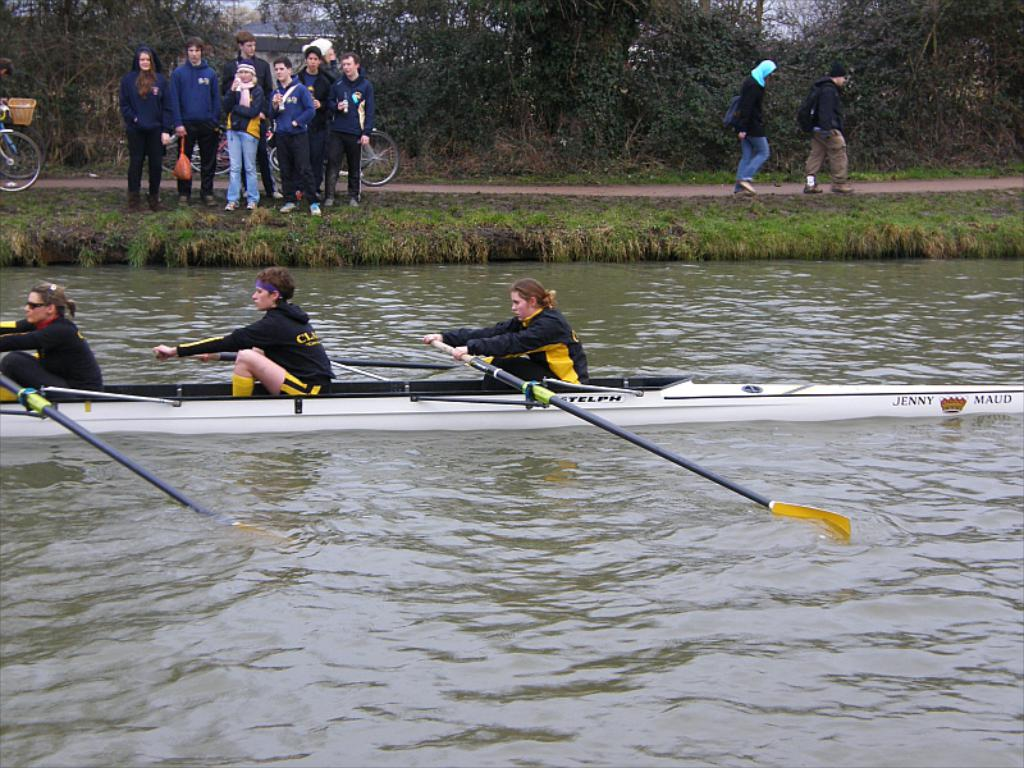Person: (118, 30, 376, 212), (152, 268, 337, 398), (423, 278, 592, 389), (0, 281, 104, 399), (736, 60, 779, 196)
